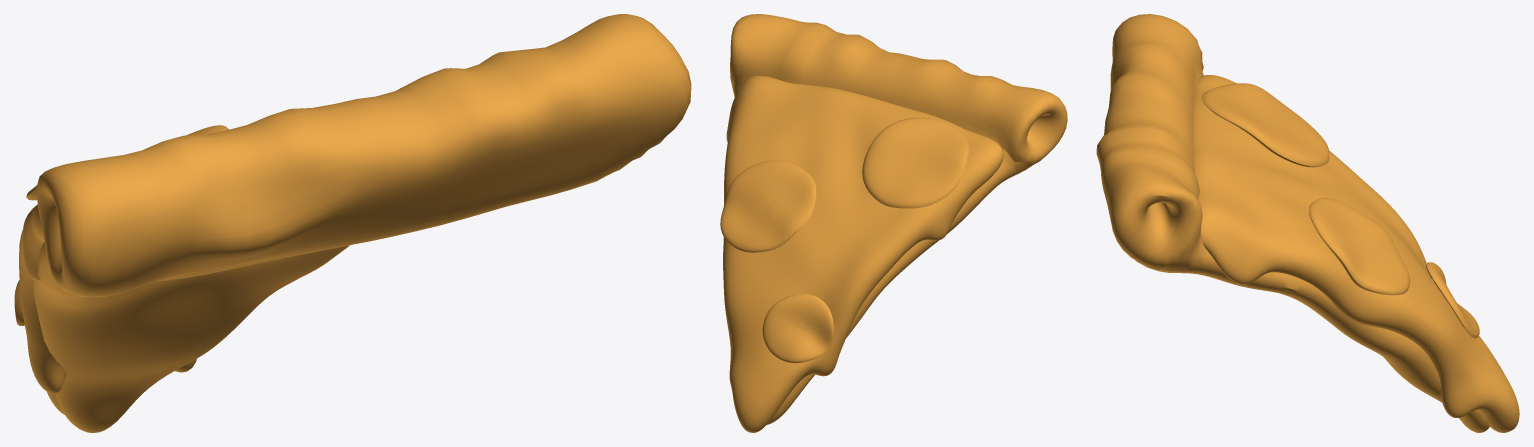
The model's file is Pizzaz.fbx.
3 views of the same model, side by side, from view 1: azimuth 30°, elevation 25°; view 2: azimuth 150°, elevation 25°; view 3: azimuth 270°, elevation 25° (orthographic). The views are drawn at different scales.
Visible parts, largest first — view 1: BREAD; view 2: BREAD; view 3: BREAD.
Part boxes in pixels (bbox=[...]): BREAD: bbox=[14, 14, 691, 432]; BREAD: bbox=[720, 14, 1067, 432]; BREAD: bbox=[1096, 14, 1519, 432].
Size of the model in its own units: 179 by 145 by 164.
